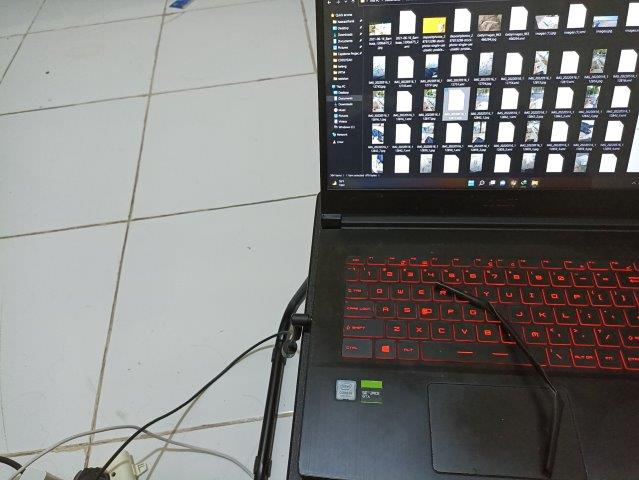sedotan: (437, 282, 559, 475)
